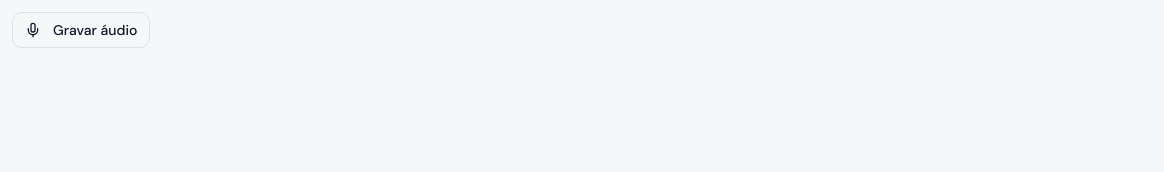
it: GravadorAudioPasso › descartar na prévia solta tudo e volta ao início; regravar começa outra sessão
The width and height of the screenshot is (1164, 172).
Step 1. Click the button "Gravar áudio" → (81, 30), box [12, 12, 150, 48]
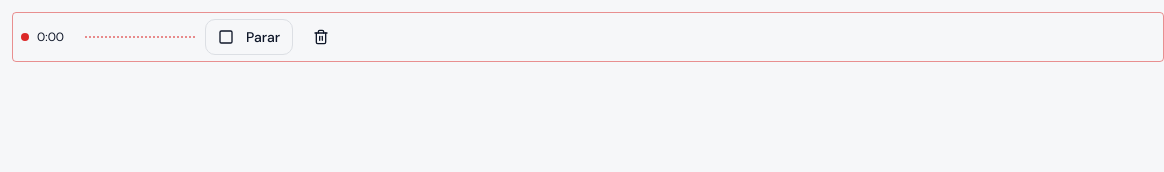
Check: the element with test id "gravador-passo-ativo" is shown, box [12, 12, 1163, 62]
Step 2. Click the button "Parar" → (249, 37), box [205, 19, 293, 55]
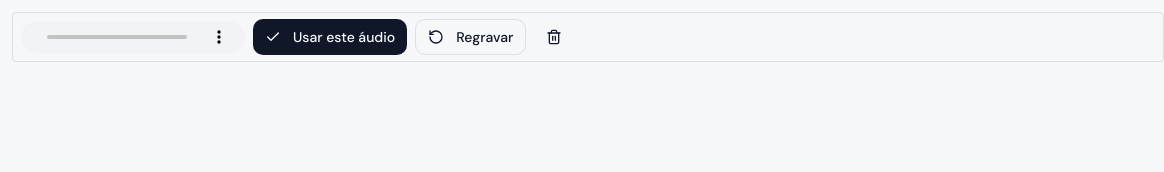
Check: the element with test id "gravador-passo-previa" is shown, box [12, 12, 1163, 62]
Step 3. Click the button "Regravar" → (471, 37), box [415, 19, 526, 55]
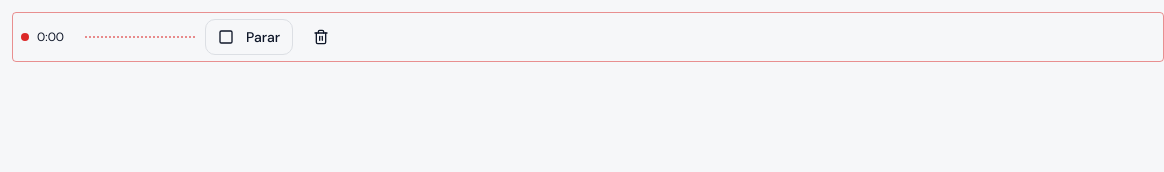
Step 4. Click the button named "Descartar gravação" → (321, 37), box [301, 17, 341, 57]
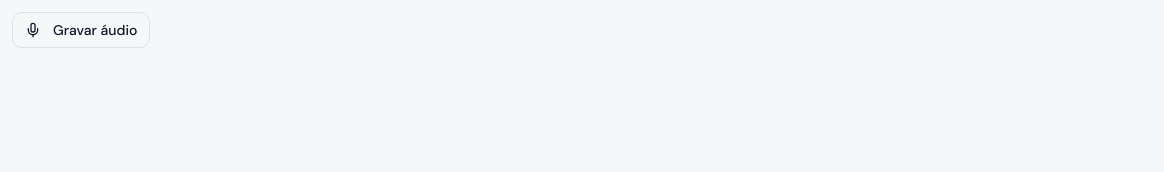
Check: the button "Gravar áudio" is shown, box [12, 12, 150, 48]
